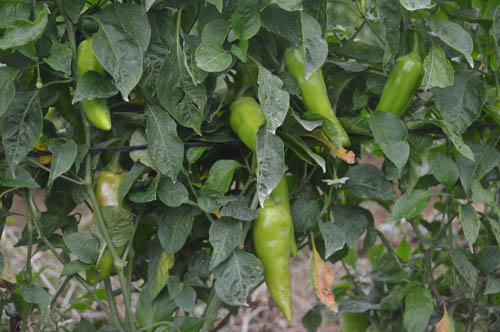ChiliPepper: (287, 47, 348, 147), (252, 206, 296, 320), (265, 155, 301, 256), (76, 43, 113, 129), (89, 170, 135, 236), (376, 59, 418, 130), (230, 100, 272, 156)
